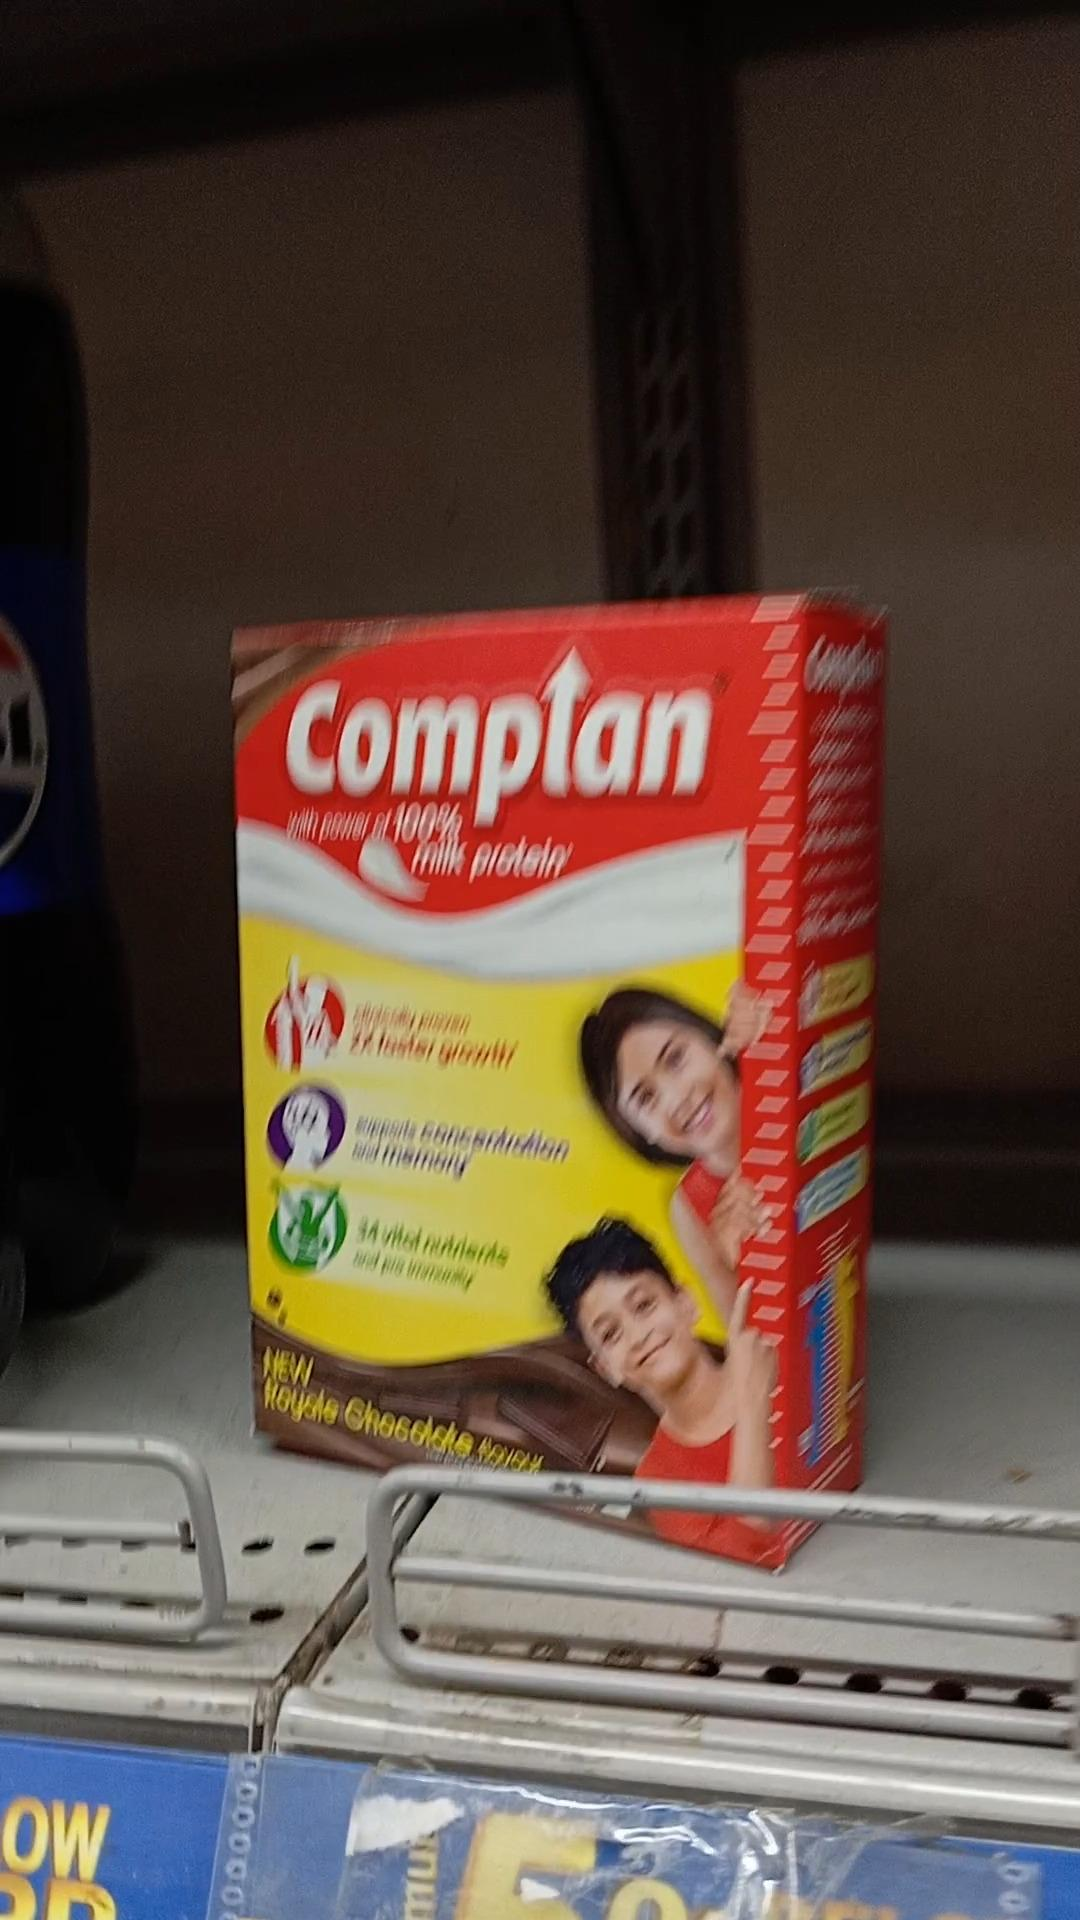COMPLAN_CHOCOLATE_200_GMS_PACK: (236, 633, 762, 1551)
